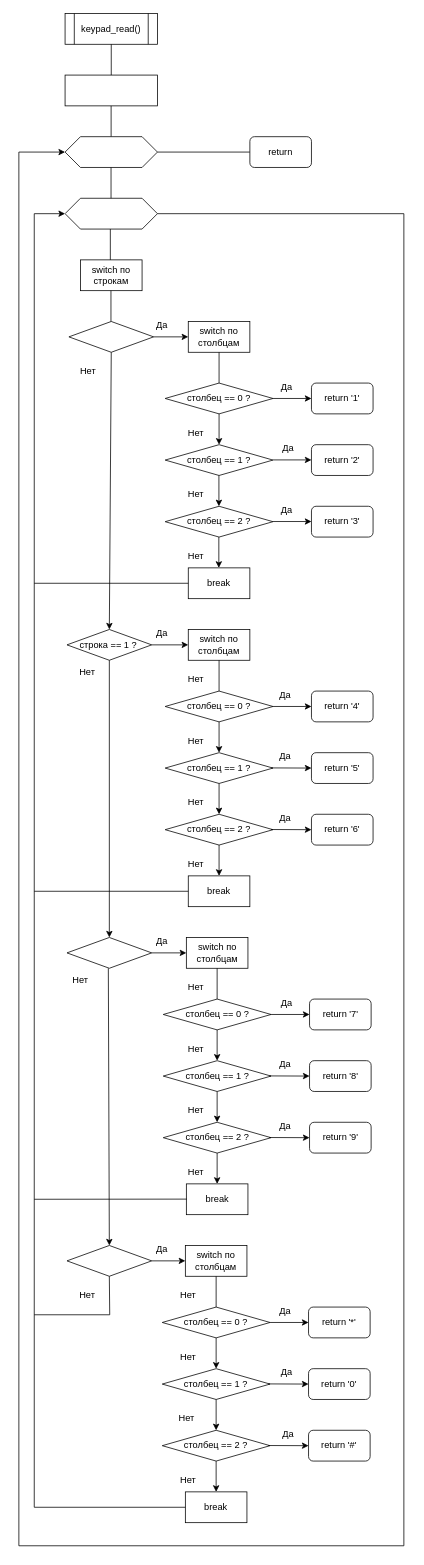
Image size: 424x1565. Some labels were removed from this diagram. The shapes that lost their labels are listed below. From the top down, each one's box as (x1, y1, x2, y2) in pixels, then its label:
(64, 74, 157, 106): Инициализация строк и столбцев
(64, 136, 157, 167): итерация по строкам
(64, 198, 157, 229): итерация по столбцам
(68, 321, 154, 352): строка == 0 ?
(66, 937, 152, 968): строка == 2 ?
(66, 1245, 152, 1276): строка == 3 ?
